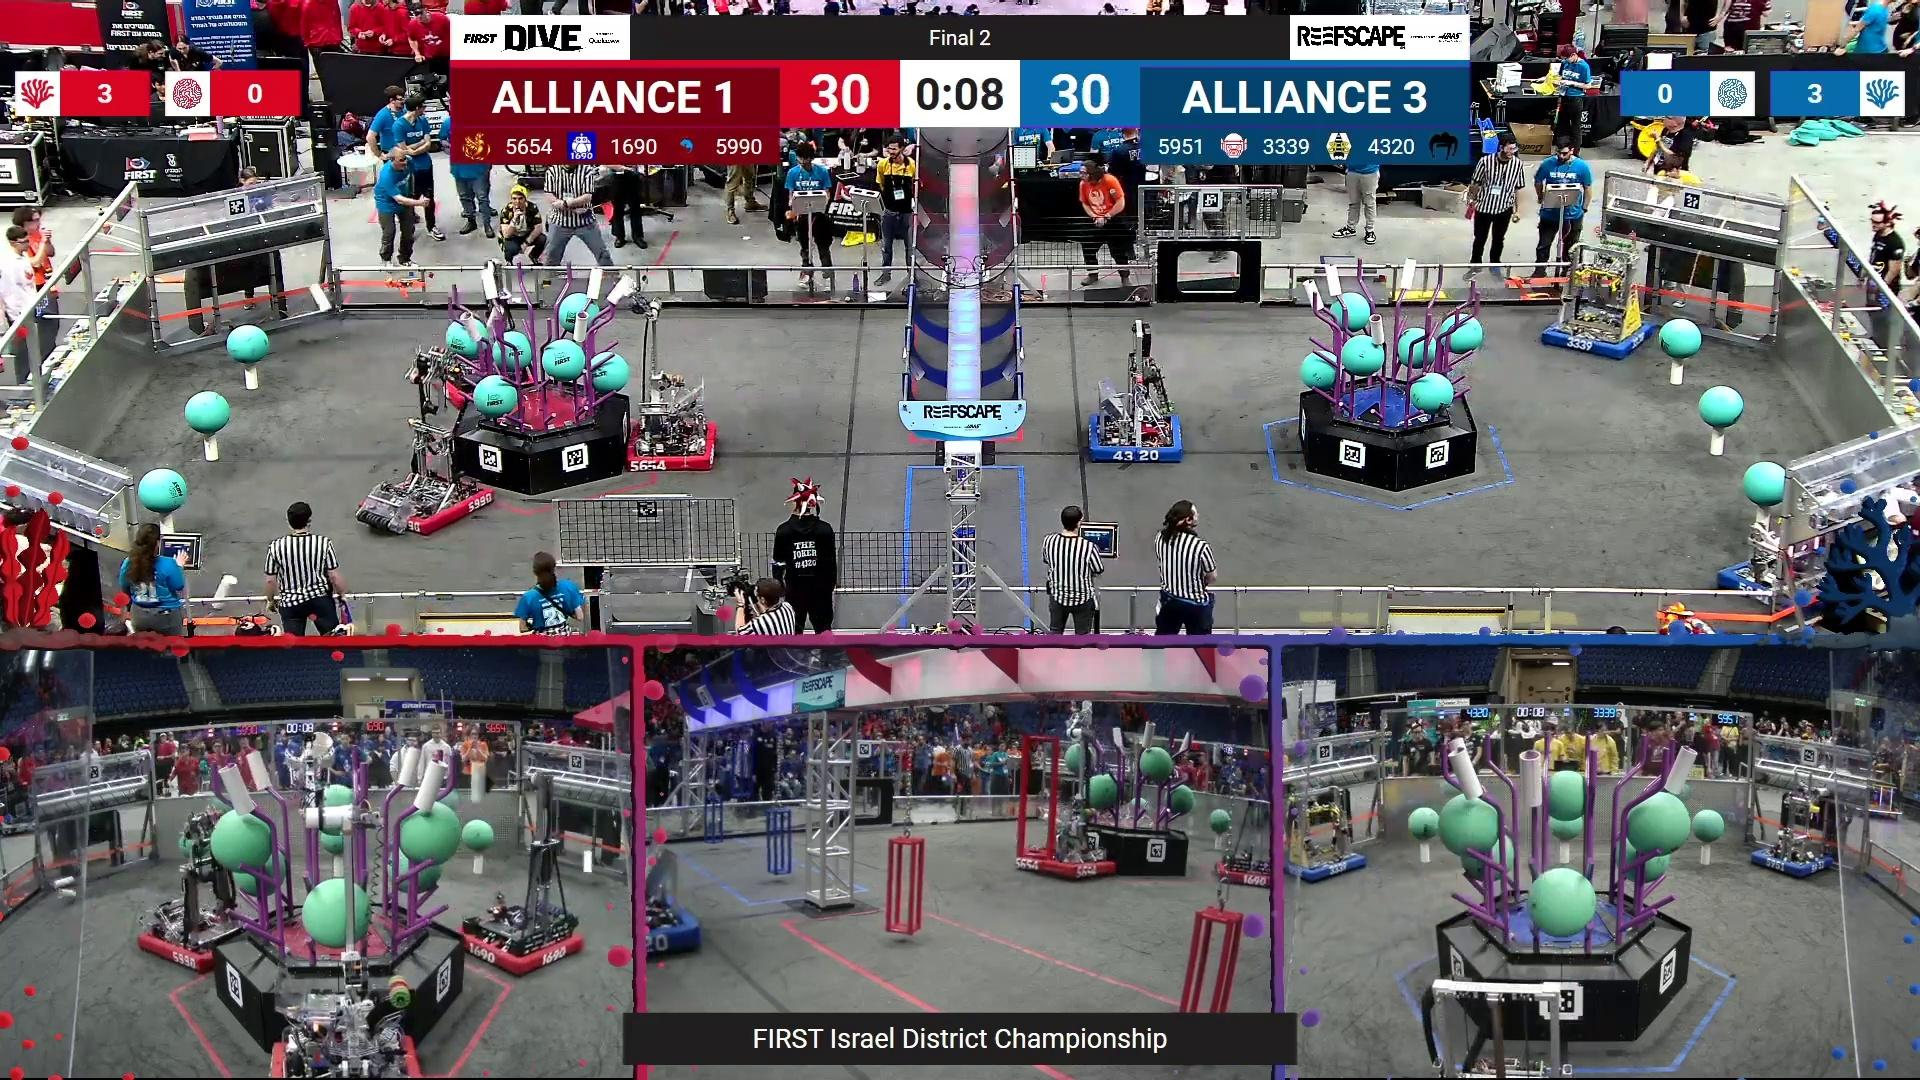robot: (269, 741, 425, 1080), (357, 353, 497, 534), (459, 773, 584, 973), (136, 807, 252, 971), (1019, 702, 1118, 882), (620, 290, 716, 471), (1717, 475, 1841, 615), (433, 272, 539, 410), (1542, 239, 1656, 359), (1088, 322, 1184, 463), (1750, 782, 1840, 877), (1287, 787, 1365, 884), (646, 833, 702, 959), (1215, 790, 1271, 886)
